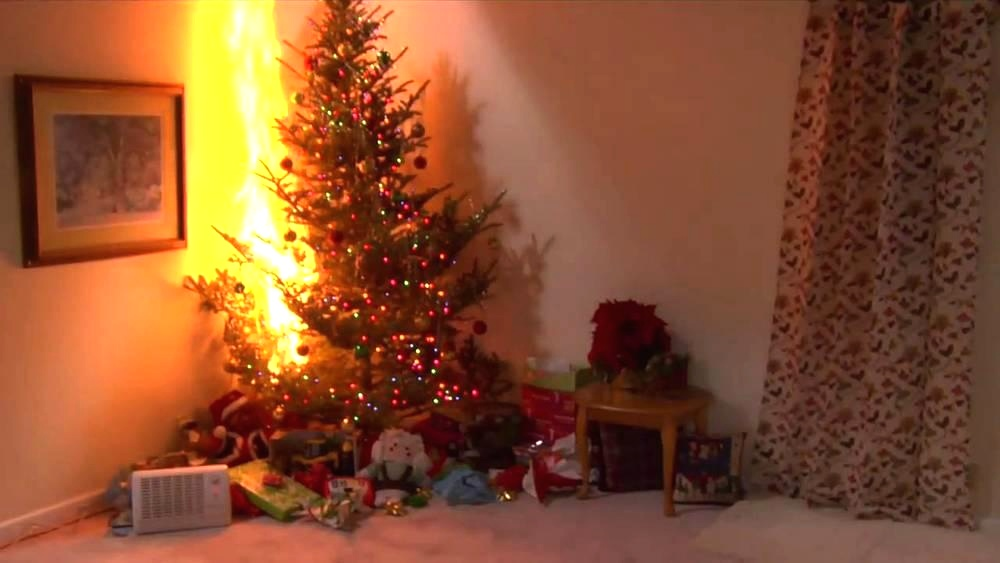fire: (180, 0, 306, 266)
